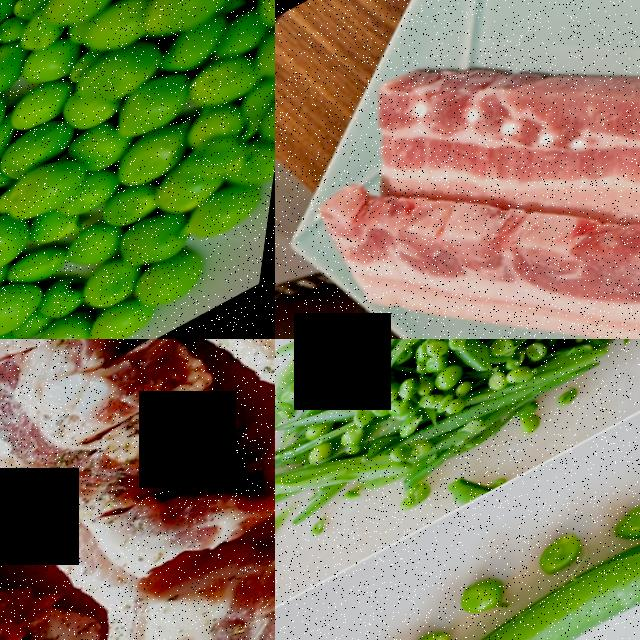peas: (0, 0, 275, 339), (275, 339, 593, 494), (458, 487, 640, 639)
pork belly: (0, 339, 275, 640), (341, 37, 551, 252), (492, 31, 640, 286), (315, 155, 499, 339), (98, 339, 275, 514), (28, 523, 275, 640), (450, 195, 625, 339), (584, 203, 640, 339)
